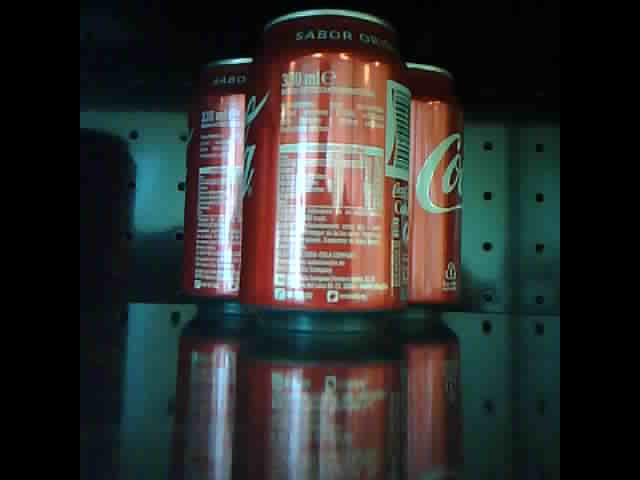coca cola: (241, 9, 410, 330), (180, 48, 252, 317), (404, 55, 462, 328)
